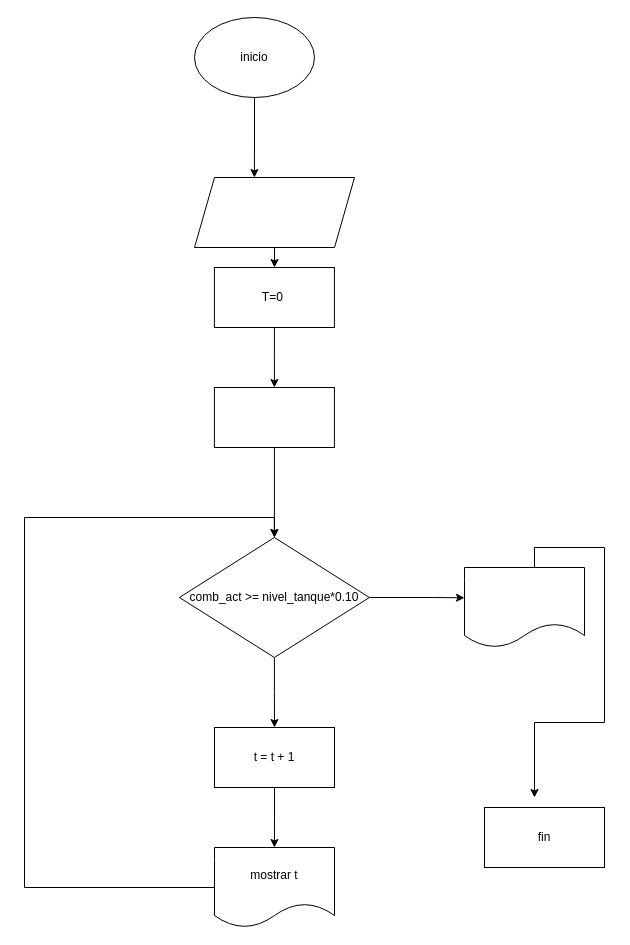
Image size: 630x945. Some labels were removed from this diagram. The shapes that lost their labels are listed below. From the top down, each one's box as (x1, y1, x2, y2) in pixels, then its label:
(194, 176, 354, 248): Leer nivel_tanque y x
(213, 386, 334, 448): comb_act = niv_tanque - x
(464, 566, 584, 648): mostar t
